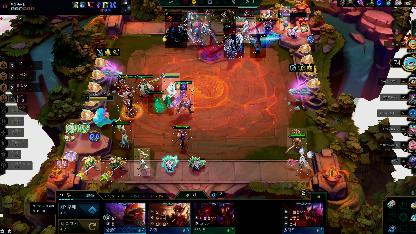1_aphelios: (206, 9, 214, 27), (244, 11, 252, 27)
1_gnar: (161, 156, 177, 172), (189, 158, 205, 172)
1_jax: (100, 156, 128, 182), (77, 156, 101, 180)
1_karma: (134, 148, 150, 176)
1_nilah: (250, 34, 266, 58), (280, 6, 290, 30)
1_pantheon: (174, 82, 194, 114)
1_qiyana: (260, 10, 278, 18)
1_rell: (216, 10, 236, 26)
1_rengar: (182, 10, 198, 26)
1_soraka: (292, 153, 310, 177)
1_twitch: (287, 128, 307, 154)
1_zyra: (172, 126, 192, 150)
2_aphelios: (258, 18, 276, 42)
2_gnar: (162, 73, 180, 97)
2_jax: (135, 74, 159, 98)
2_karma: (112, 120, 132, 150)
2_qiyana: (236, 17, 256, 43)
2_rell: (224, 24, 244, 58)
2_rengar: (165, 12, 187, 48), (188, 13, 210, 45)
2_sett: (116, 75, 138, 117)
jade: (148, 90, 168, 114)
